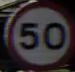Speed limit: (4, 4, 68, 63)
